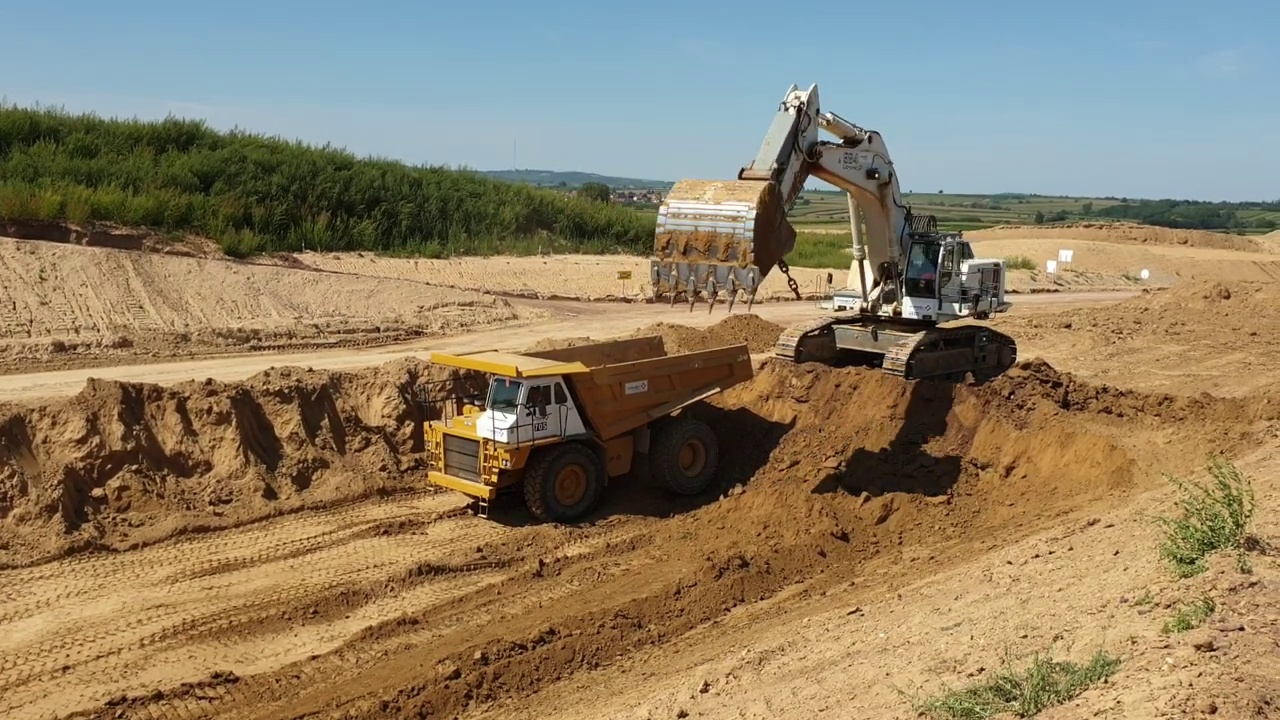excavator: (649, 76, 1021, 386)
truck: (402, 326, 759, 531)
